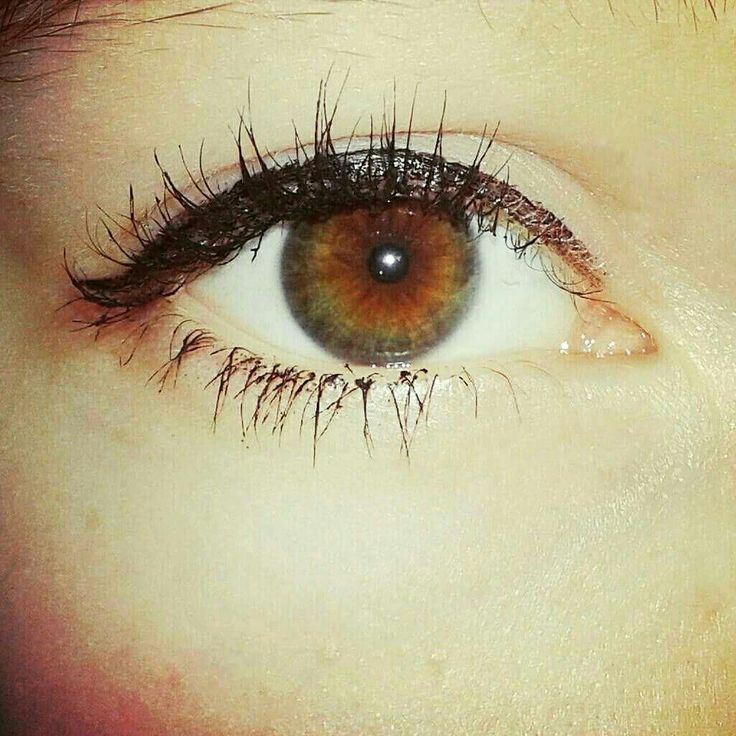iris: (279, 175, 482, 366)
pupil: (365, 242, 410, 281)
